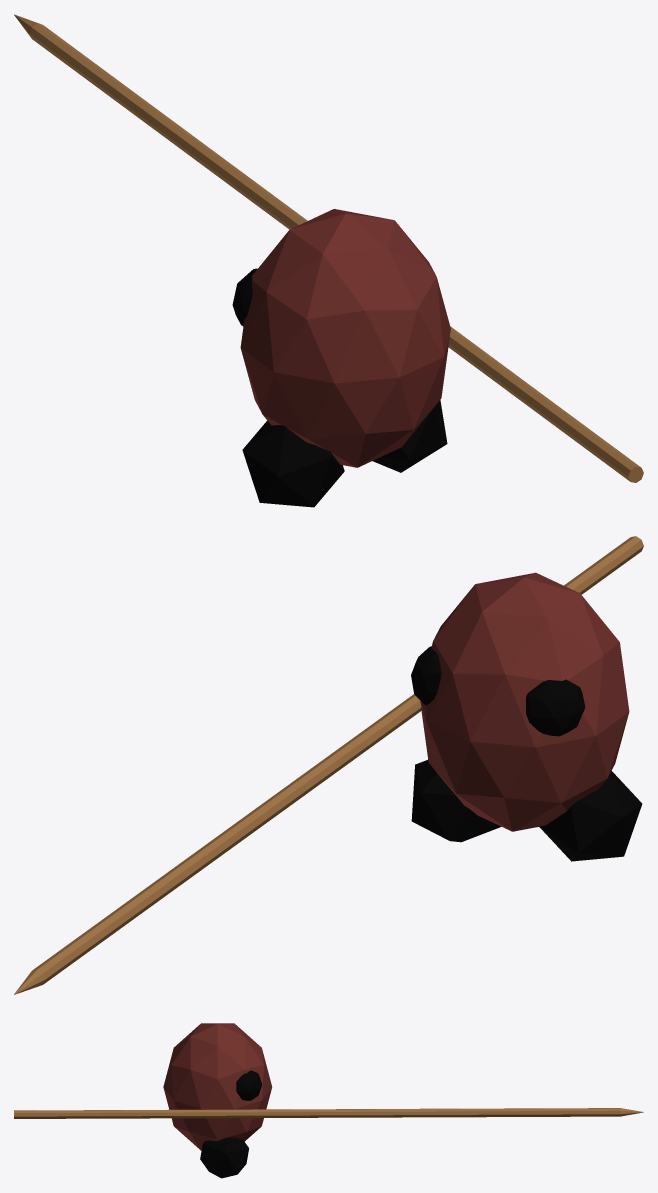
Rendered from walk.f0026.glb.
3 renders of one model, top to bottom at view 1: azimuth 30°, elevation 25°; view 2: azimuth 150°, elevation 25°; view 3: azimuth 270°, elevation 25°, orthographic. The views are drawn at different scales.
Parts seen in each view (by area): view 1: Body.001; view 2: Body.001; view 3: Body.001.
Boxes of the visible parts, left/top/right/bottom form: Body.001: left=14, top=14, right=643, bottom=507; Body.001: left=14, top=536, right=643, bottom=994; Body.001: left=14, top=1023, right=643, bottom=1178.
Size of the model in its own units: 2.17 by 2.84 by 11.56.
Materials: 1 (1 with a texture image).
